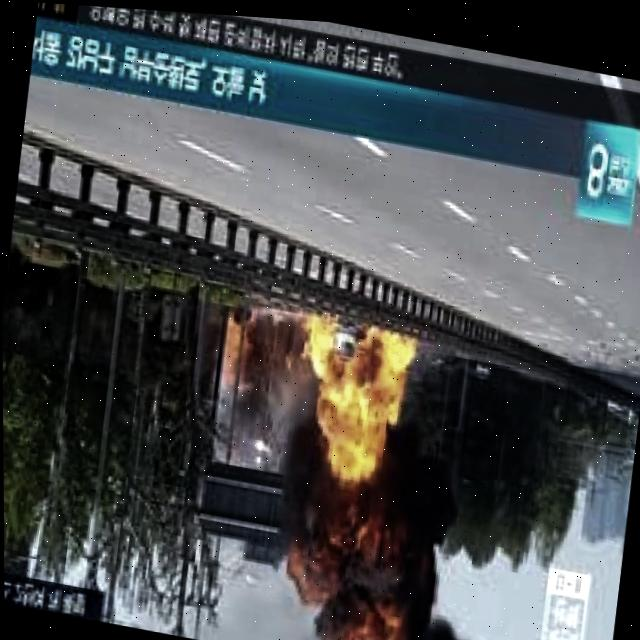Fire: (269, 311, 439, 640), (218, 316, 257, 392)
Smoke: (385, 607, 535, 640)
